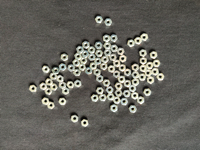nut: (157, 73, 165, 81), (152, 68, 160, 76), (150, 51, 158, 59), (146, 62, 154, 70), (132, 64, 140, 72), (129, 85, 137, 93), (124, 69, 132, 77), (124, 80, 132, 88), (121, 98, 129, 106), (108, 65, 116, 73), (71, 115, 79, 123), (85, 67, 93, 75), (88, 46, 96, 54), (73, 59, 81, 67), (74, 80, 82, 88), (59, 63, 67, 71), (59, 98, 67, 106), (47, 102, 55, 110), (42, 98, 50, 106), (29, 85, 37, 93), (153, 60, 161, 67), (147, 77, 155, 84), (145, 70, 153, 77), (144, 89, 152, 96), (138, 97, 145, 105), (140, 50, 148, 57), (141, 34, 149, 41), (135, 37, 142, 45), (140, 57, 147, 65), (140, 65, 148, 72), (139, 74, 147, 81), (129, 106, 137, 113), (132, 72, 140, 79), (132, 79, 140, 86), (132, 92, 139, 100), (105, 19, 113, 26), (96, 16, 103, 24), (123, 91, 131, 98), (103, 35, 111, 42), (117, 48, 125, 55), (120, 55, 127, 63), (119, 64, 126, 72), (118, 76, 126, 83), (115, 83, 123, 90), (115, 90, 123, 97), (113, 97, 121, 104), (111, 105, 118, 113), (113, 60, 121, 67), (113, 71, 121, 78), (110, 54, 117, 62), (104, 42, 112, 49), (104, 49, 112, 56), (103, 80, 111, 87), (106, 87, 114, 94), (107, 94, 115, 101), (95, 42, 103, 49), (96, 50, 104, 57), (100, 94, 107, 102), (91, 95, 99, 102), (97, 75, 104, 83), (90, 63, 98, 70), (83, 41, 90, 49), (82, 50, 89, 58), (77, 46, 84, 54), (80, 57, 88, 64), (67, 82, 75, 89), (61, 54, 69, 61), (52, 68, 60, 75), (62, 88, 70, 95), (57, 75, 64, 83), (42, 66, 50, 73), (45, 88, 53, 95), (40, 83, 47, 91), (128, 40, 135, 47), (111, 35, 118, 42), (111, 45, 118, 52), (102, 56, 109, 63), (101, 63, 108, 70), (95, 58, 102, 65), (97, 88, 104, 95), (82, 120, 89, 127), (94, 69, 101, 76), (89, 54, 96, 61), (79, 64, 86, 71), (75, 53, 82, 60), (74, 69, 81, 76), (68, 65, 75, 72), (59, 82, 66, 89), (50, 73, 57, 80), (51, 84, 58, 91), (46, 79, 53, 86)
